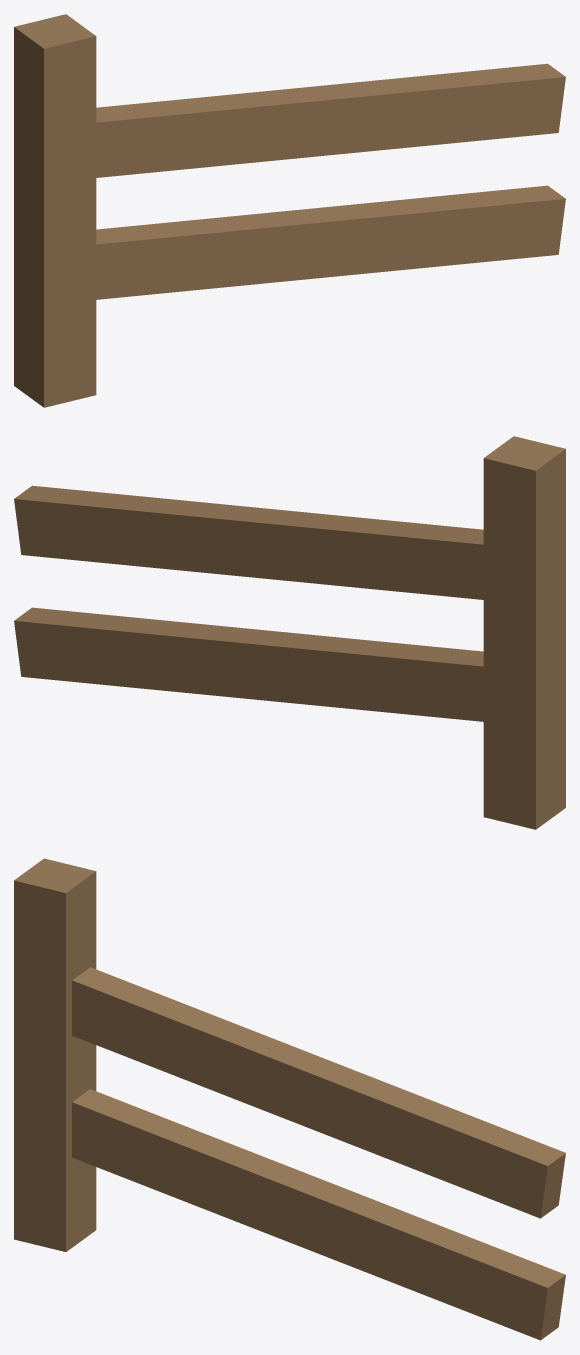
Rendered from SM_Fence_01_B.fbx.
3 views of the same model, one above another, from view 1: azimuth 30°, elevation 25°; view 2: azimuth 150°, elevation 25°; view 3: azimuth 330°, elevation 25° (orthographic).
Visible parts, largest first — view 1: polySurface2; view 2: polySurface2; view 3: polySurface2.
Boxes of the visible parts, <box> form: polySurface2: <box>14,14,565,407</box>; polySurface2: <box>14,436,565,829</box>; polySurface2: <box>14,858,565,1340</box>.
Bounding box in the file's own units: 105 × 68.4 × 10.4.
1 material, 1 textured.
